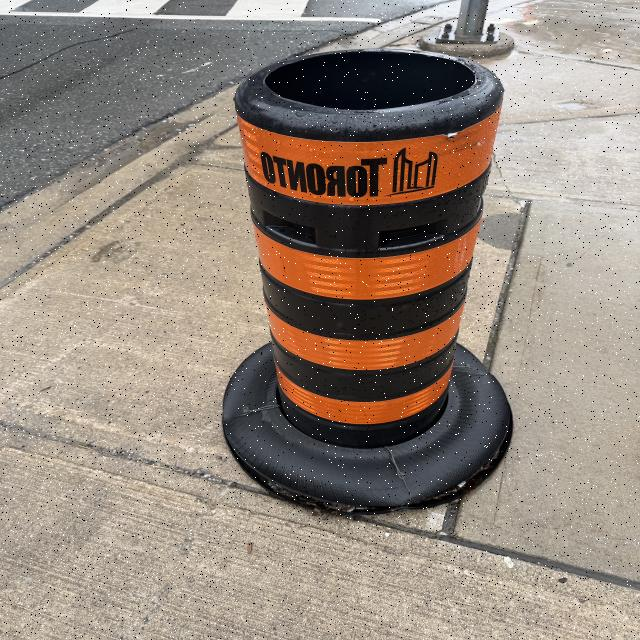Teraffic Barrel: (223, 50, 511, 512)
